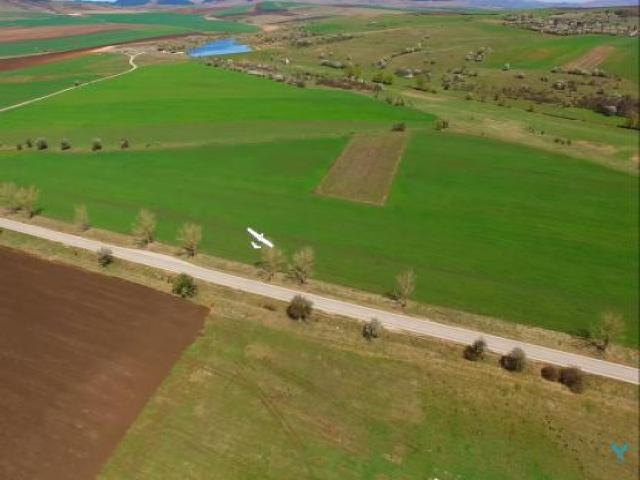uav: (244, 221, 278, 259)
